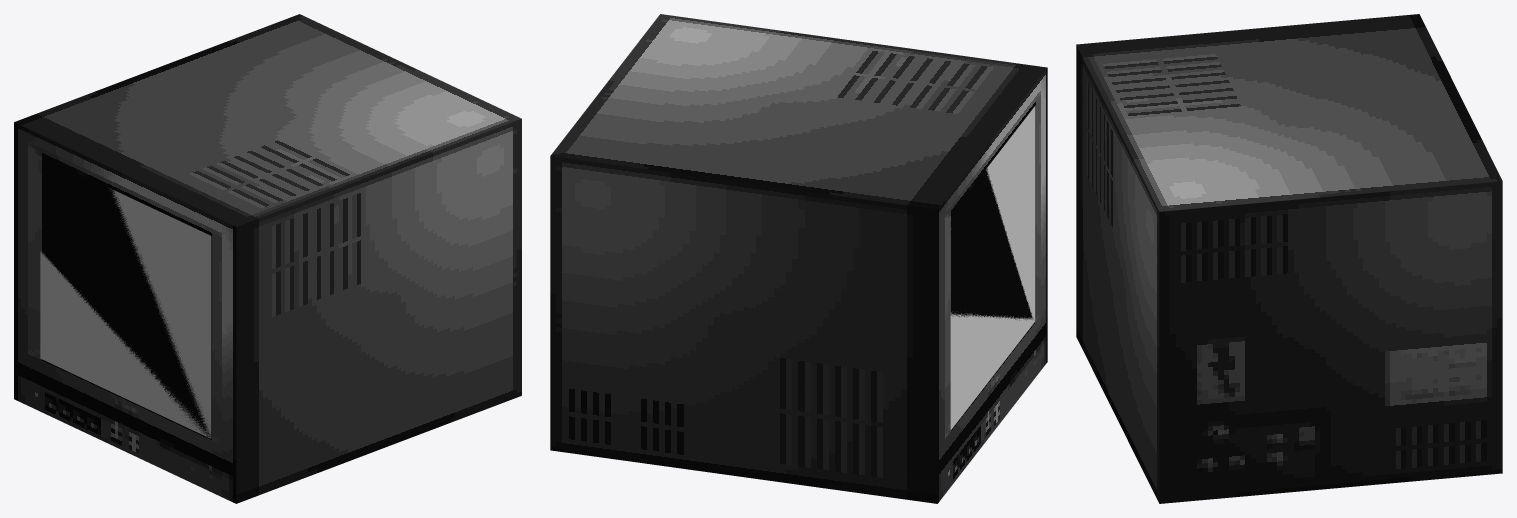
Rendered from primary_078.glb.
The picture shows the model from 3 angles, left to right: view 1: azimuth 30°, elevation 25°; view 2: azimuth 150°, elevation 25°; view 3: azimuth 270°, elevation 25°; orthographic projection. The views are drawn at different scales.
Visible parts, largest first — view 1: Object; view 2: Object; view 3: Object.
Part boxes in pixels (x1,y1,x2,y2): Object: (14, 14, 521, 503); Object: (550, 14, 1047, 503); Object: (1076, 14, 1502, 503).
Bounding box in the file's own units: 0.9439 × 0.6502 × 0.8604.
Materials: 7 (7 with a texture image).
